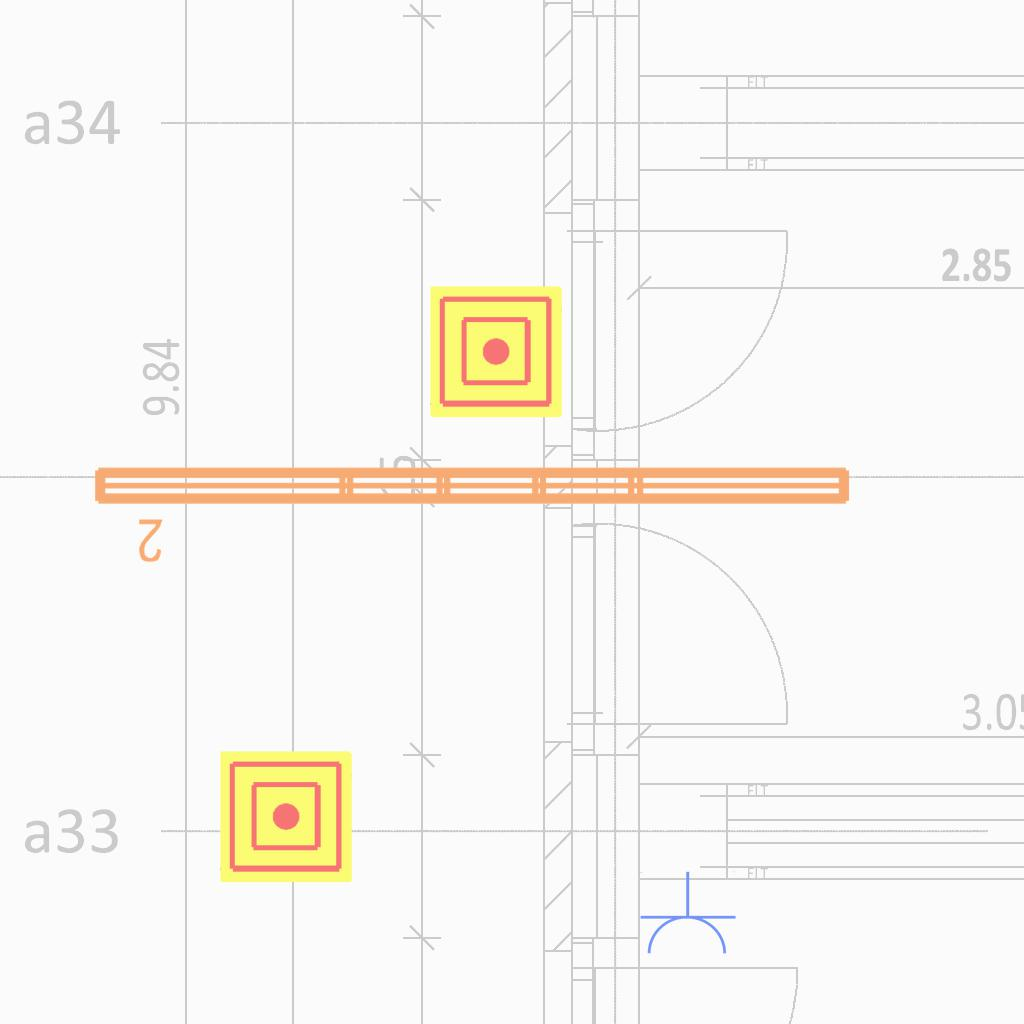Ambulanz_Pendelleuchte_LED: (86, 455, 860, 567)
NAM-Nichtautomatischer_Melder: (220, 751, 352, 883), (430, 286, 562, 418)
Schukosteckdose_einfach: (637, 871, 737, 958)
